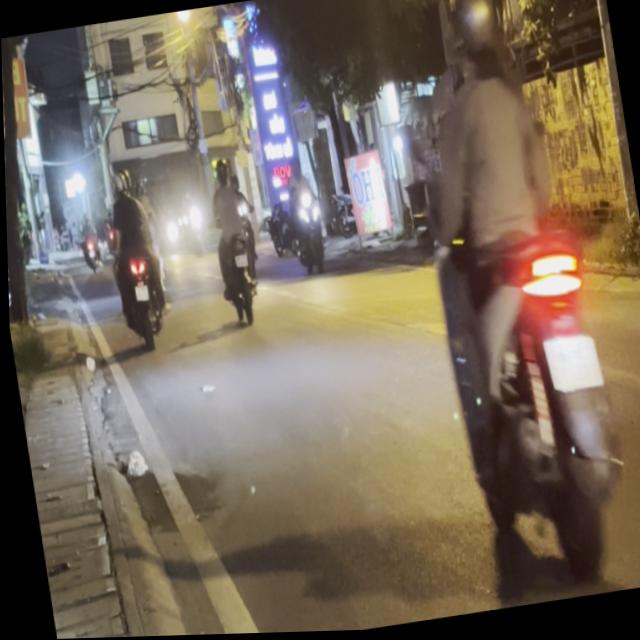helmet: (439, 0, 508, 92)
licenseplate: (382, 0, 640, 607)
nohelmet: (541, 333, 600, 394)
